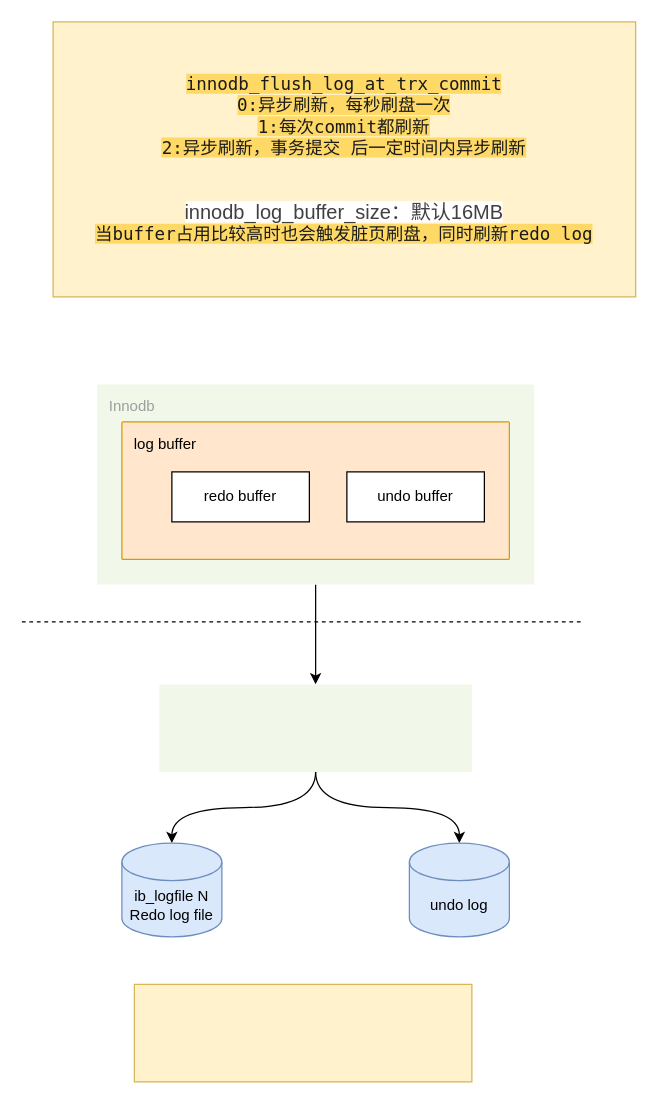
Image size: 658x1104. Some labels were removed from this diagram. The centre of each missing label's shape, as x and y in pixels:
"OS buffer" belongs at pixel 315 727.
"redo log存储在文件里面，undo log存储在对应的表空间里" belongs at pixel 302 1032.
